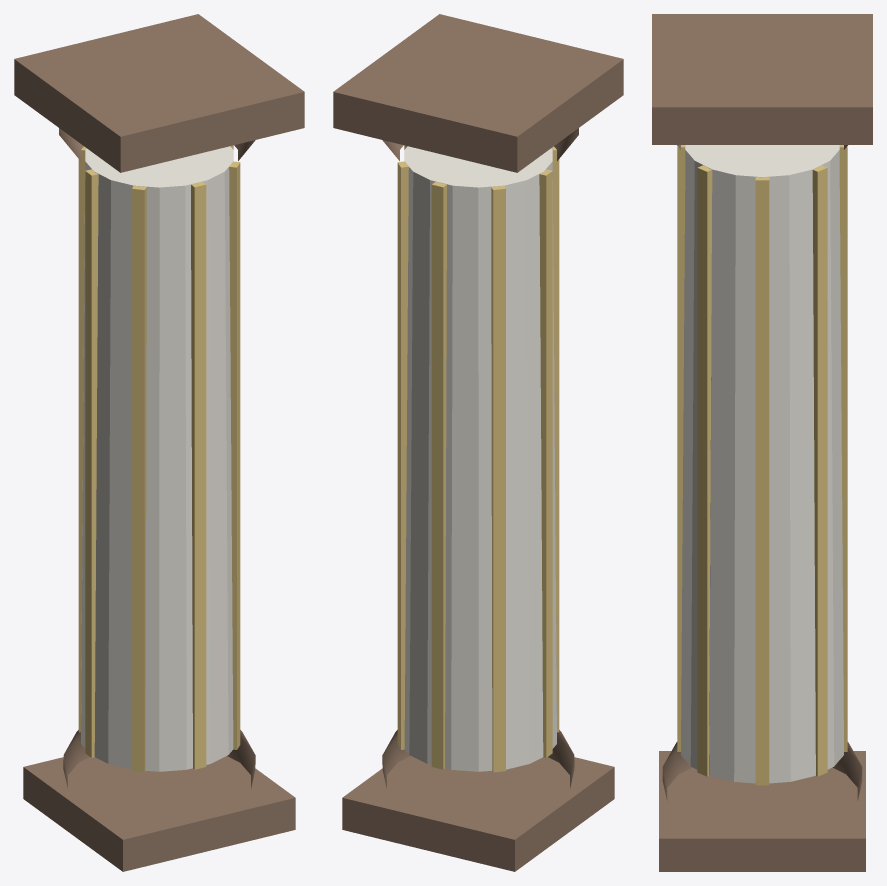
Rendered from casColumn.glb.
3 renders of one model, left to right at view 1: azimuth 30°, elevation 25°; view 2: azimuth 150°, elevation 25°; view 3: azimuth 270°, elevation 25°, orthographic. The views are drawn at different scales.
Parts seen in each view (by area): view 1: casino-column; view 2: casino-column; view 3: casino-column.
Part boxes in pixels (x1=…): casino-column: x1=14, y1=14, x2=304, y2=871; casino-column: x1=333, y1=14, x2=623, y2=871; casino-column: x1=652, y1=14, x2=872, y2=871.
Size of the model in its own units: 0.9601 by 3.68 by 0.9601.
